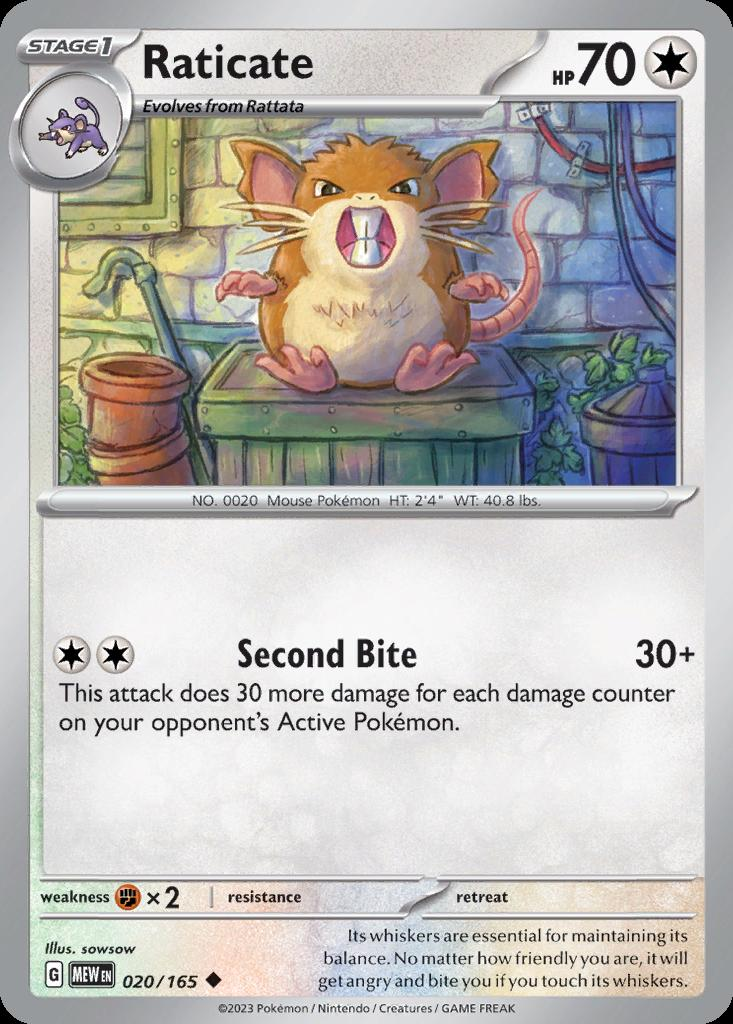card: (1, 5, 732, 1024)
hp: (529, 21, 710, 90)
name: (134, 27, 326, 96)
set num: (121, 959, 230, 993)
set symbol: (43, 959, 120, 997)
